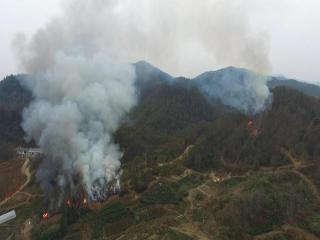smoke: (19, 3, 140, 202), (193, 9, 276, 121)
